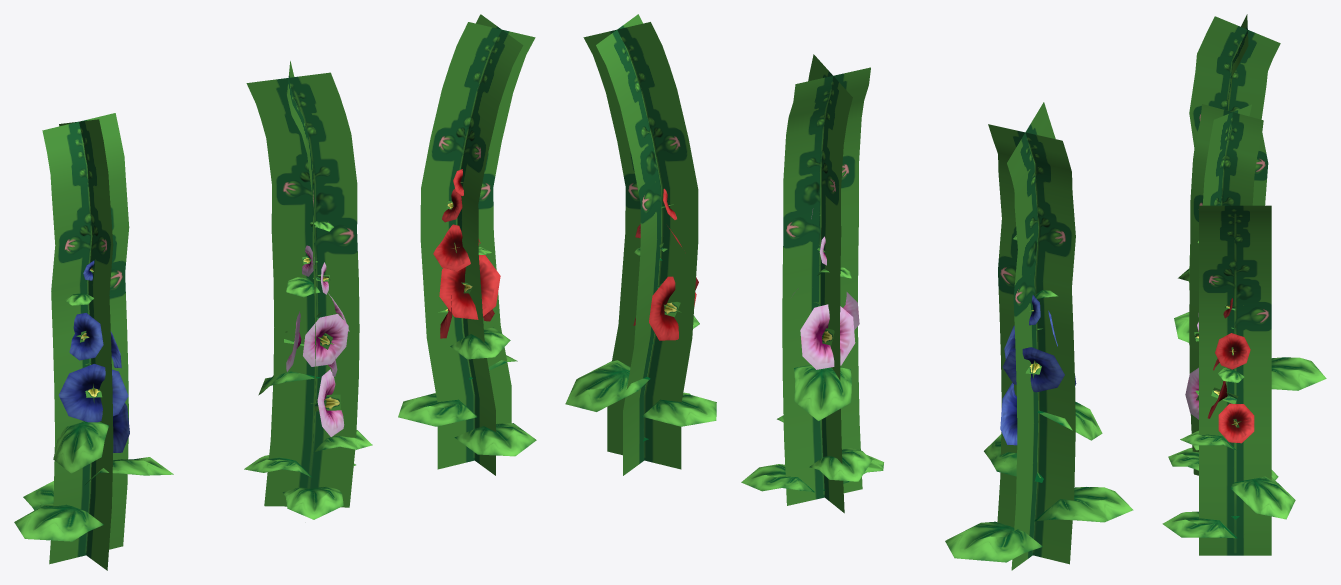
The model's file is Malven (3).fbx.
3 renders of one model, left to right at view 1: azimuth 30°, elevation 25°; view 2: azimuth 150°, elevation 25°; view 3: azimuth 270°, elevation 25°, orthographic. The views are drawn at different scales.
Parts seen in each view (by area): view 1: Malva2_low, Malva3_low, Malva1_low; view 2: Malva3_low, Malva1_low, Malva2_low; view 3: Malva1_low, Malva3_low, Malva2_low.
Part boxes in pixels (x1=…): Malva2_low: x1=244, y1=61, x2=372, y2=519; Malva3_low: x1=14, y1=113, x2=173, y2=570; Malva1_low: x1=398, y1=14, x2=536, y2=475; Malva3_low: x1=945, y1=102, x2=1133, y2=570; Malva1_low: x1=565, y1=14, x2=716, y2=475; Malva2_low: x1=741, y1=54, x2=883, y2=513; Malva1_low: x1=1162, y1=205, x2=1295, y2=555; Malva3_low: x1=1174, y1=14, x2=1326, y2=390; Malva2_low: x1=1168, y1=104, x2=1278, y2=480.
Size of the model in its own units: 522 by 418 by 165.
